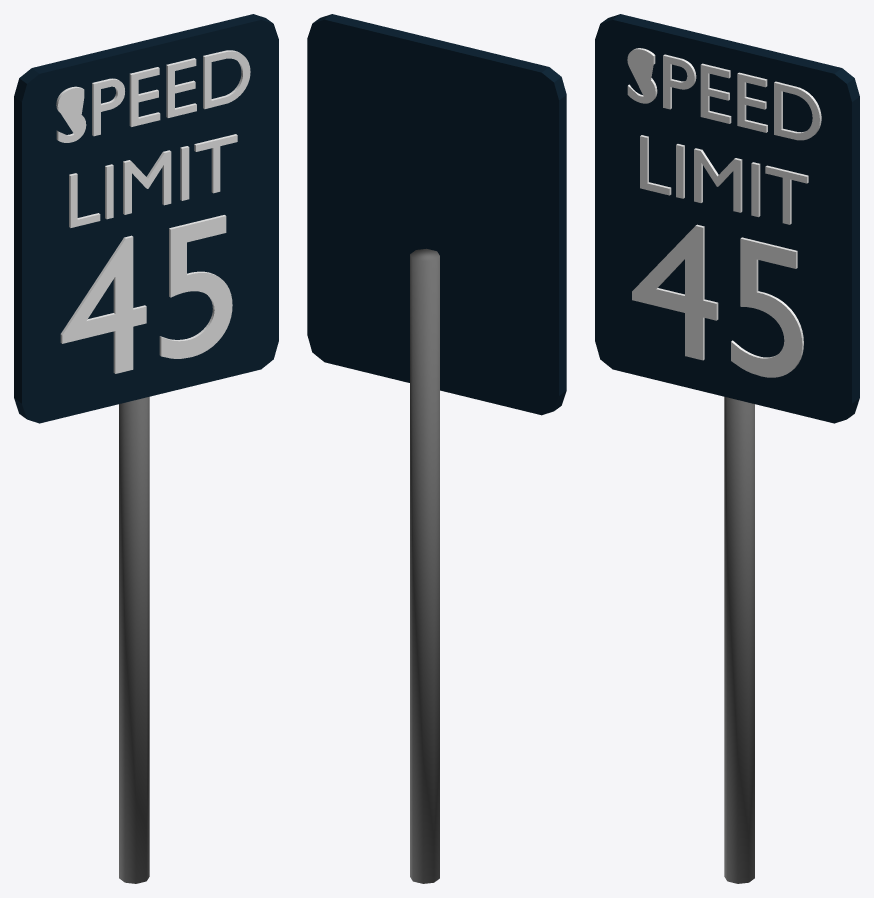
The model's file is Prop_StreetSign_Speed_45.fbx.
3 renders of one model, left to right at view 1: azimuth 30°, elevation 25°; view 2: azimuth 150°, elevation 25°; view 3: azimuth 330°, elevation 25°, orthographic. The views are drawn at different scales.
Parts seen in each view (by area): view 1: Prop_StreetSign_Speed_45; view 2: Prop_StreetSign_Speed_45; view 3: Prop_StreetSign_Speed_45.
Part boxes in pixels (x1=…): Prop_StreetSign_Speed_45: x1=14, y1=14, x2=278, y2=883; Prop_StreetSign_Speed_45: x1=307, y1=14, x2=566, y2=883; Prop_StreetSign_Speed_45: x1=595, y1=14, x2=859, y2=883.
Size of the model in its own units: 140 by 438 by 23.65.
